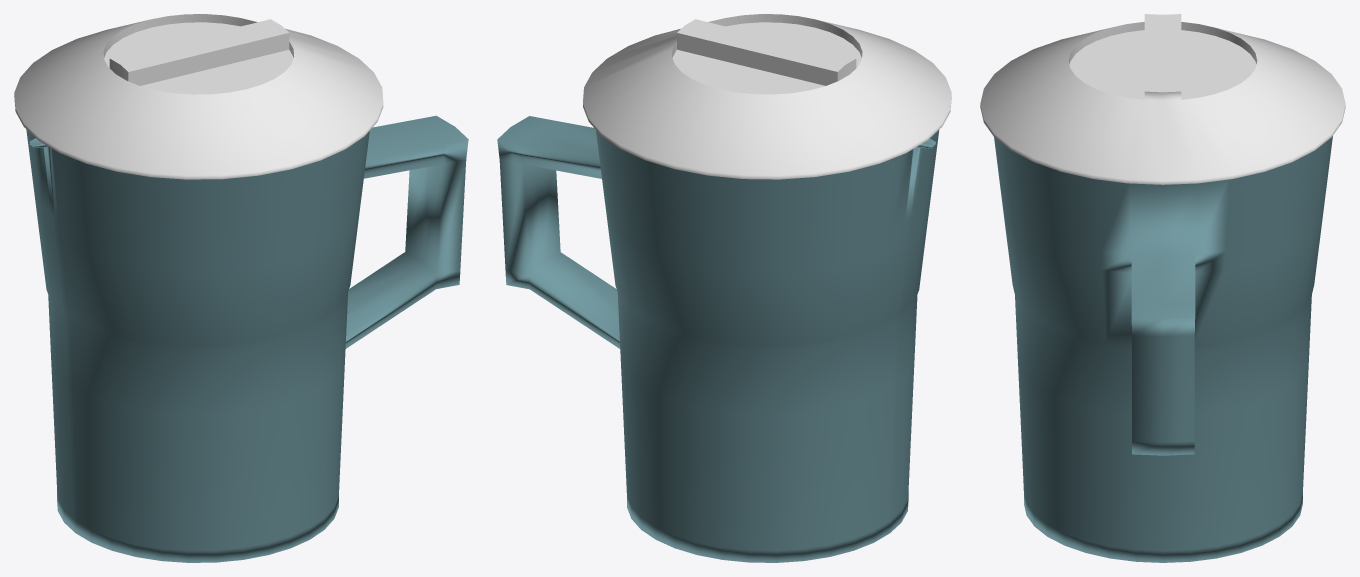
The model's file is pitsel1.fbx.
The picture shows the model from 3 angles, left to right: view 1: azimuth 30°, elevation 25°; view 2: azimuth 150°, elevation 25°; view 3: azimuth 270°, elevation 25°; orthographic projection.
Visible parts, largest first — view 1: Cylinder.001, Cylinder; view 2: Cylinder.001, Cylinder; view 3: Cylinder.001, Cylinder.
Boxes of the visible parts, box(x1,y1,x2,y2) form: Cylinder.001: box(26, 115, 468, 562); Cylinder: box(14, 14, 383, 179); Cylinder.001: box(497, 116, 939, 562); Cylinder: box(583, 14, 951, 179); Cylinder.001: box(994, 136, 1332, 562); Cylinder: box(980, 14, 1345, 184).
Bounding box in the file's own units: 750 × 774 × 567.
